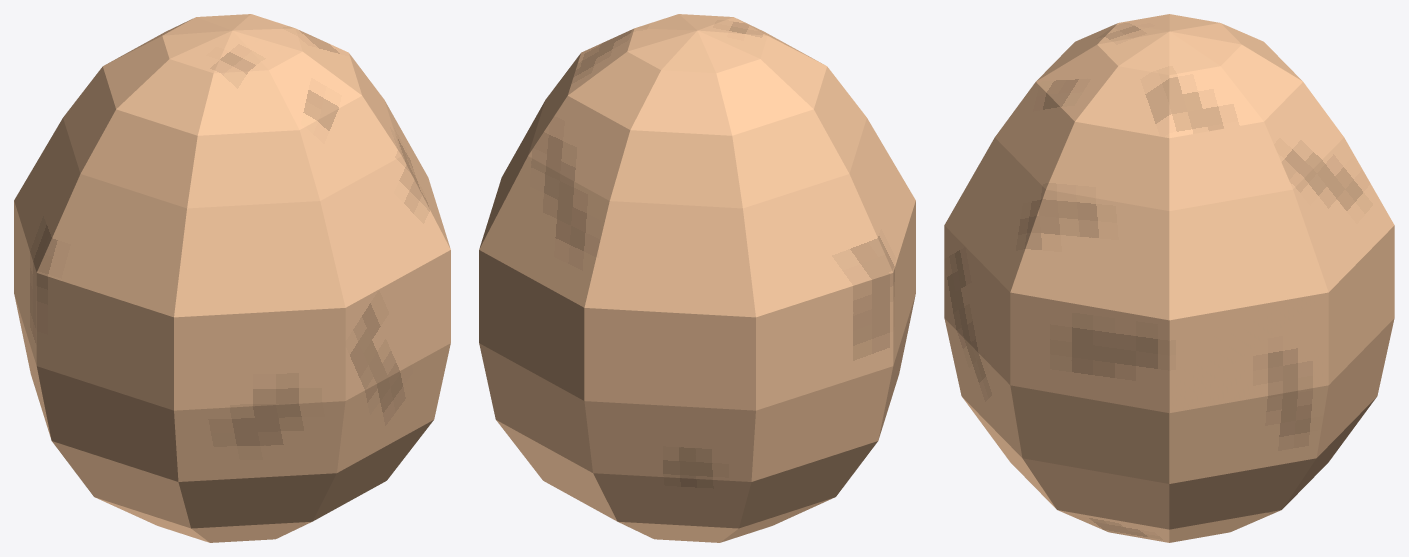
Rendered from egg.glb.
3 renders of one model, left to right at view 1: azimuth 30°, elevation 25°; view 2: azimuth 150°, elevation 25°; view 3: azimuth 270°, elevation 25°, orthographic.
Visible parts, largest first — view 1: Sphere; view 2: Sphere; view 3: Sphere.
Boxes of the visible parts, box(x1,y1,x2,y2) form: Sphere: box(14, 14, 450, 542); Sphere: box(479, 14, 915, 542); Sphere: box(944, 14, 1394, 542).
Bounding box in the file's own units: 1.05 × 1.26 × 1.05.
Materials: 1 (1 with a texture image).
